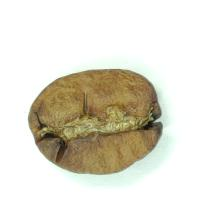NG: (36, 91, 158, 155)
